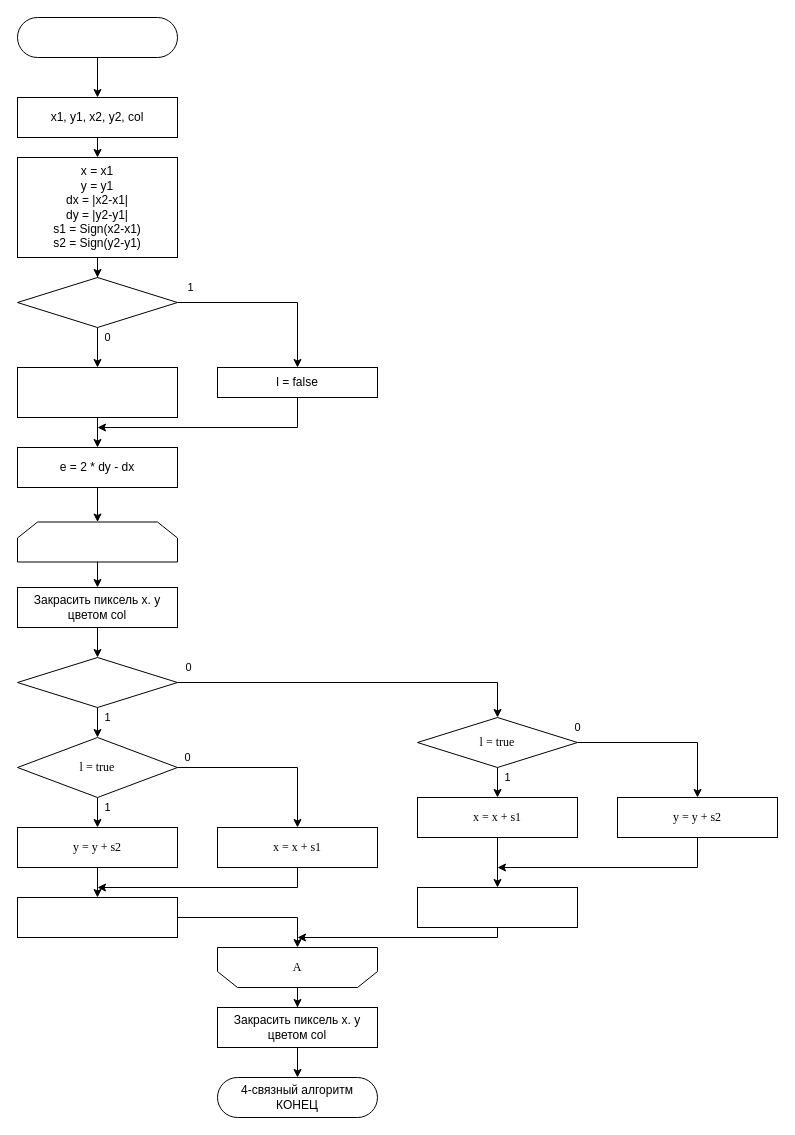
Some shapes in this 795 by 1135 pixel diagram are drawn without their labels. Here are the shapes that lost their labels. From the top down, the centre of each, then its label:
point 97,37: 4-связный алгоритм НАЧАЛО
point 97,302: dy < dx
point 97,392: dx = |y2-y1| dy = |x2 - x1| l = true
point 97,541: A i = dx + dy
point 97,682: e < 0
point 97,917: e = e + 2 * dy
point 497,907: e = e - e * dx
